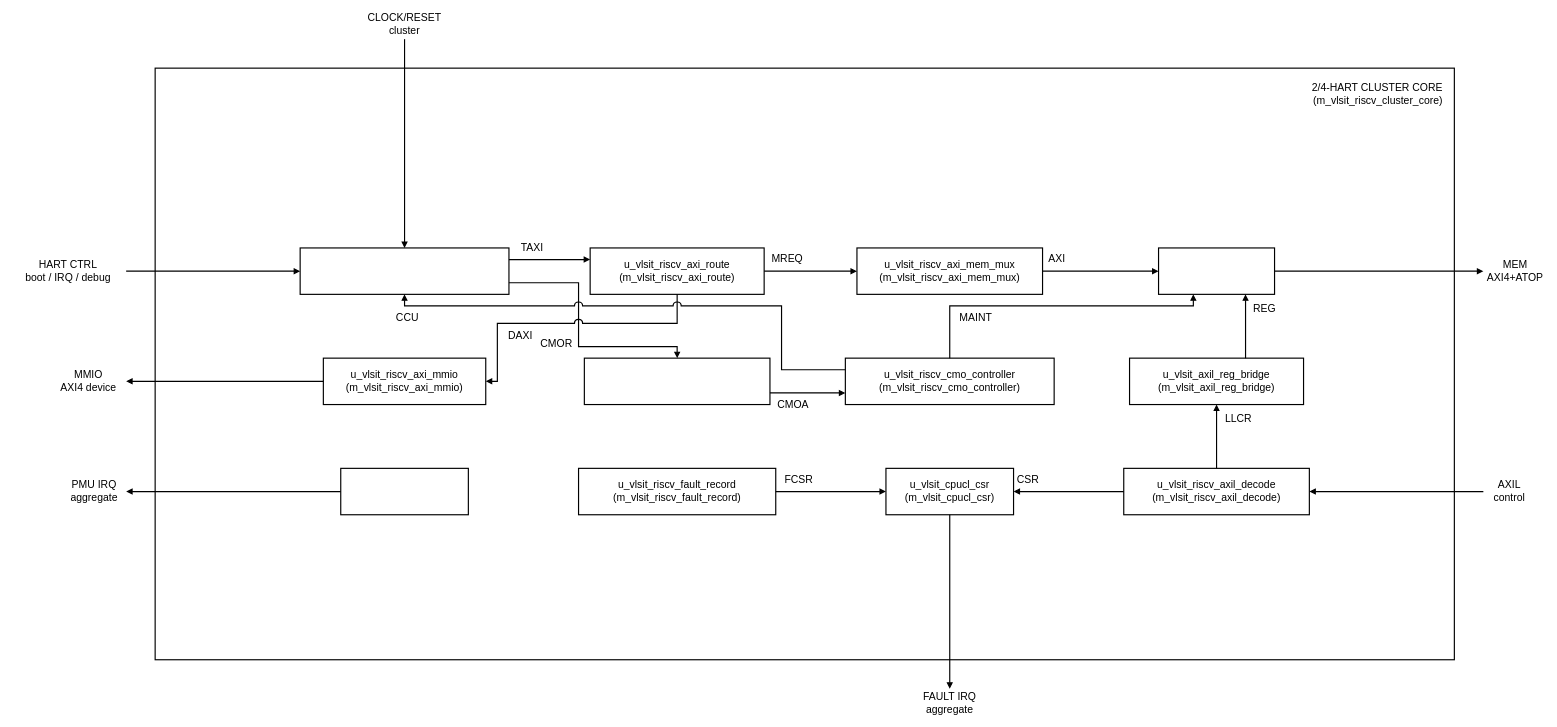
Some shapes in this 1557 by 727 pixel diagram are drawn without their labels. The shapes that lost their labels are listed below. From the top down, each one's centre as x and y in pixels, then its label:
At pixel 404 271: "u_vlsit_riscv_cpu_tile_array (m_vlsit_riscv_cpu_tile_array)".
At pixel 1216 271: "u_vlsit_axi_llc (m_vlsit_axi_llc)".
At pixel 676 381: "u_vlsit_riscv_cmo_arbiter (m_vlsit_riscv_cmo_arbiter)".
At pixel 404 491: "u_vlsit_riscv_pmu (m_vlsit_riscv_pmu)".
